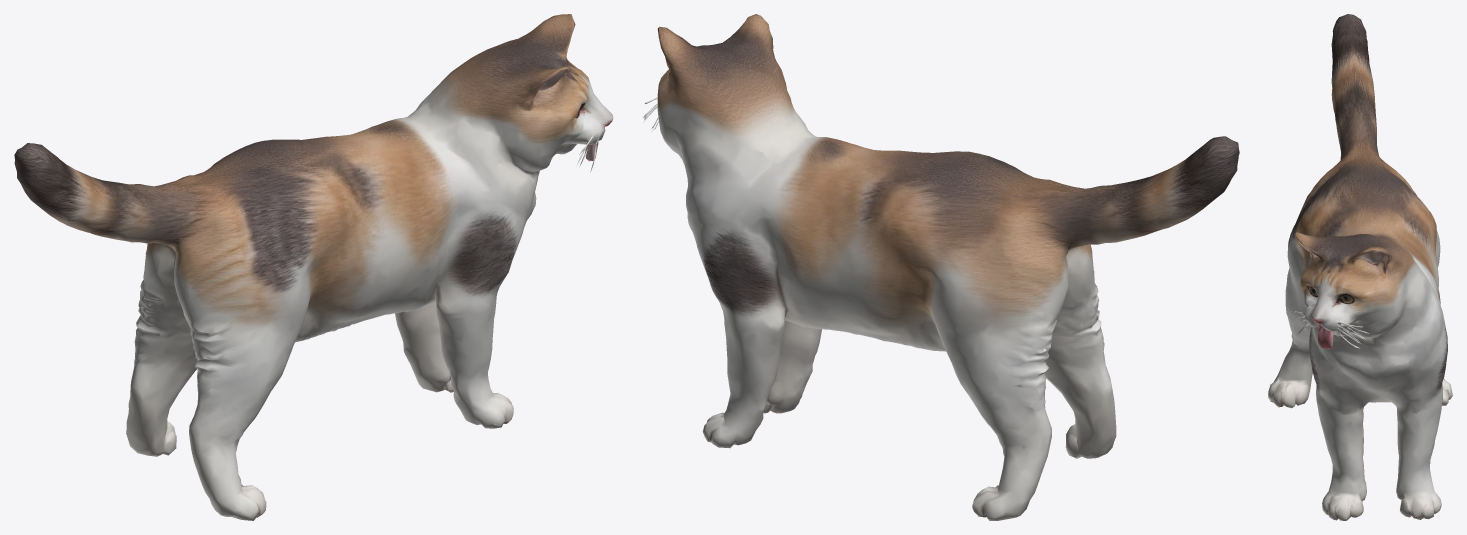
Rendered from BLEHMILLY.glb.
The picture shows the model from 3 angles, left to right: view 1: azimuth 30°, elevation 25°; view 2: azimuth 150°, elevation 25°; view 3: azimuth 270°, elevation 25°; orthographic projection. The views are drawn at different scales.
Visible parts, largest first — view 1: tripo_node_b2b7dd1a-5753-466a-9e45-48ece7393433; view 2: tripo_node_b2b7dd1a-5753-466a-9e45-48ece7393433; view 3: tripo_node_b2b7dd1a-5753-466a-9e45-48ece7393433.
Part boxes in pixels (<box>): tripo_node_b2b7dd1a-5753-466a-9e45-48ece7393433: <box>14,14,613,520</box>; tripo_node_b2b7dd1a-5753-466a-9e45-48ece7393433: <box>643,14,1239,520</box>; tripo_node_b2b7dd1a-5753-466a-9e45-48ece7393433: <box>1268,14,1452,520</box>.
Bounding box in the file's own units: 1.59 × 1 × 0.5269.
Materials: 1 (1 with a texture image).
